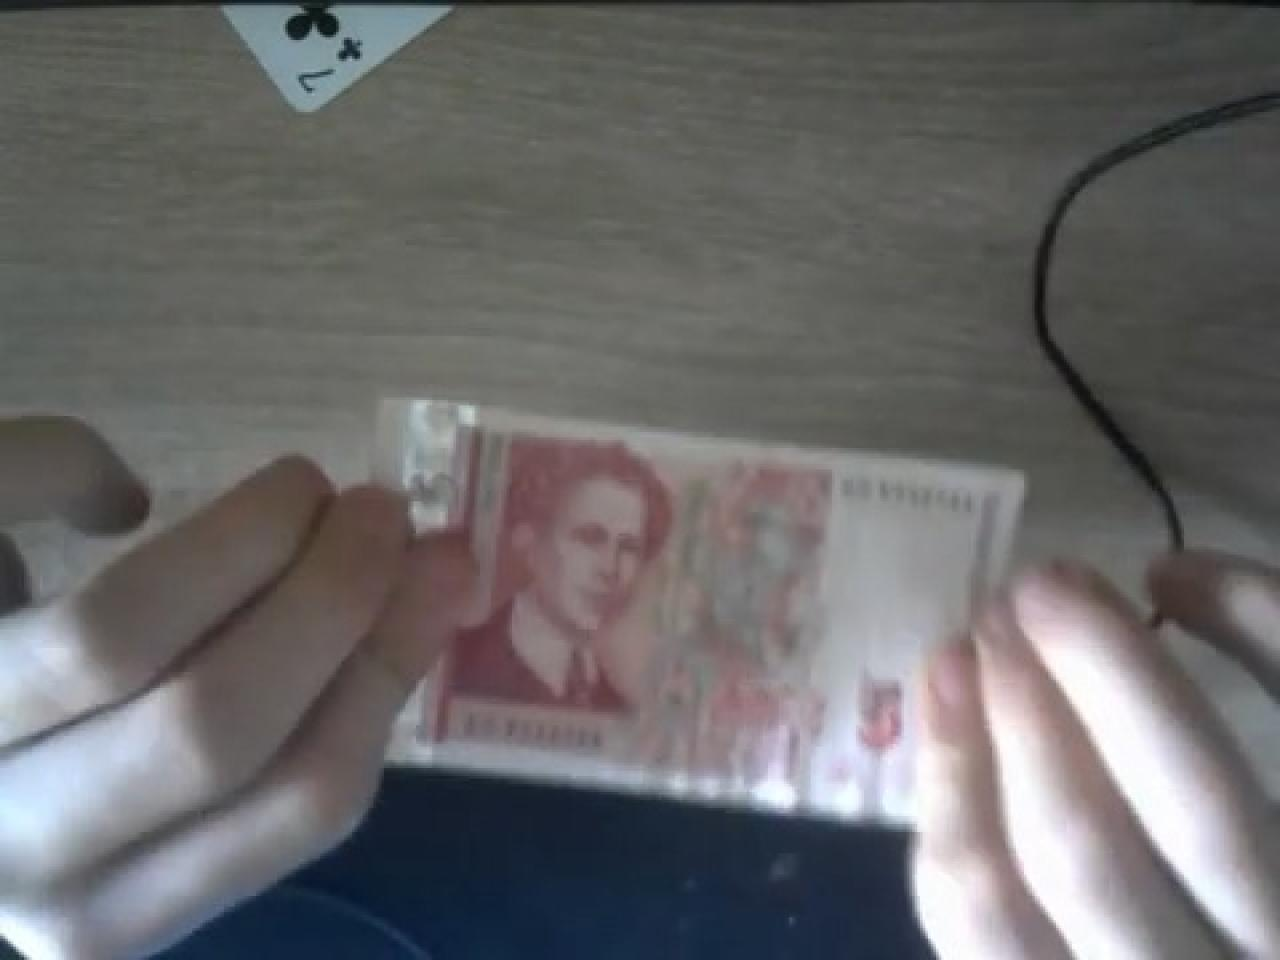5leva: (389, 402, 1024, 827)
